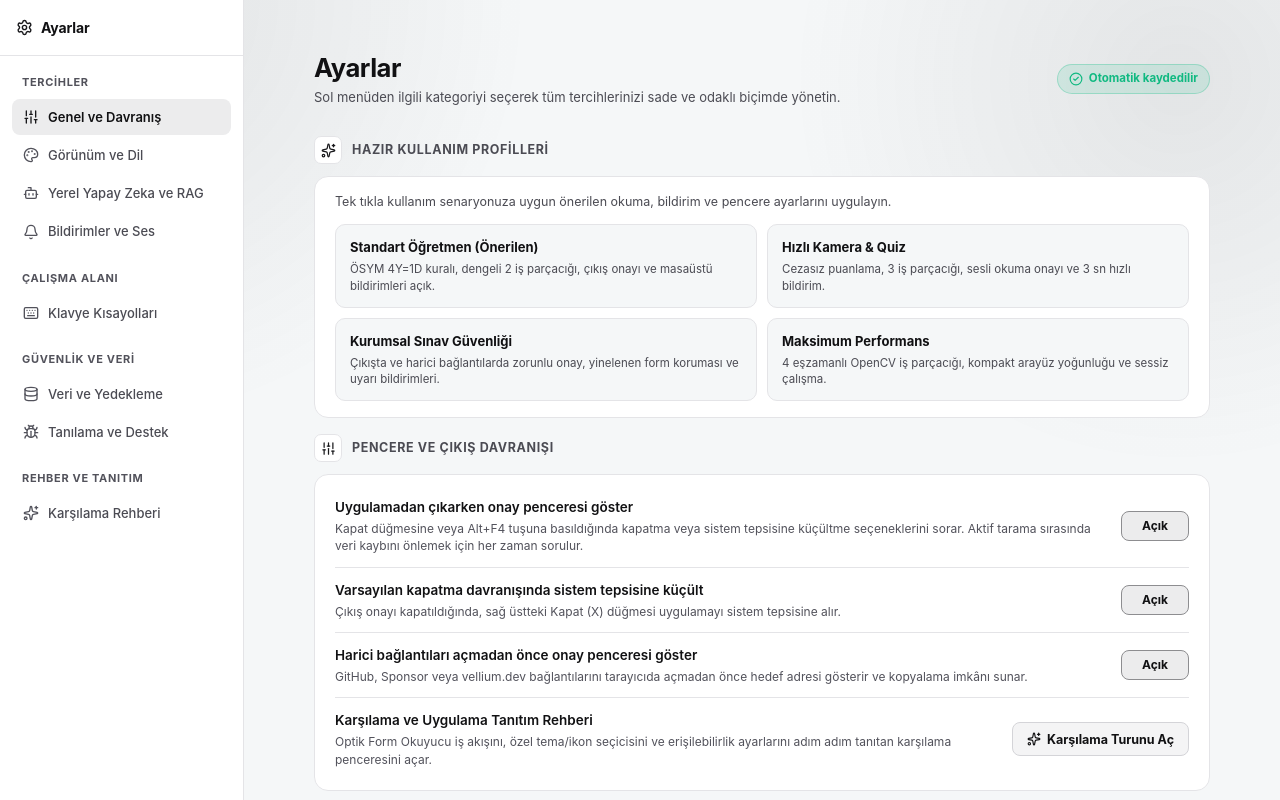
it: DesktopShell, 2nd-Sidebar SettingsPage, AboutPage, GuidePage & Exit Confirmation › renders SettingsPage with 2nd sidebar split-layout and switches sub-pages, themes, icons, languages, and notifications
The image size is (1280, 800).
Later steps or results of the test are not shown.
Check: the heading "Hazır Kullanım Profilleri" is shown, box [352,143,549,157]
Click the button "Görünüm ve Dil" at (122, 155), box [12,137,231,173]
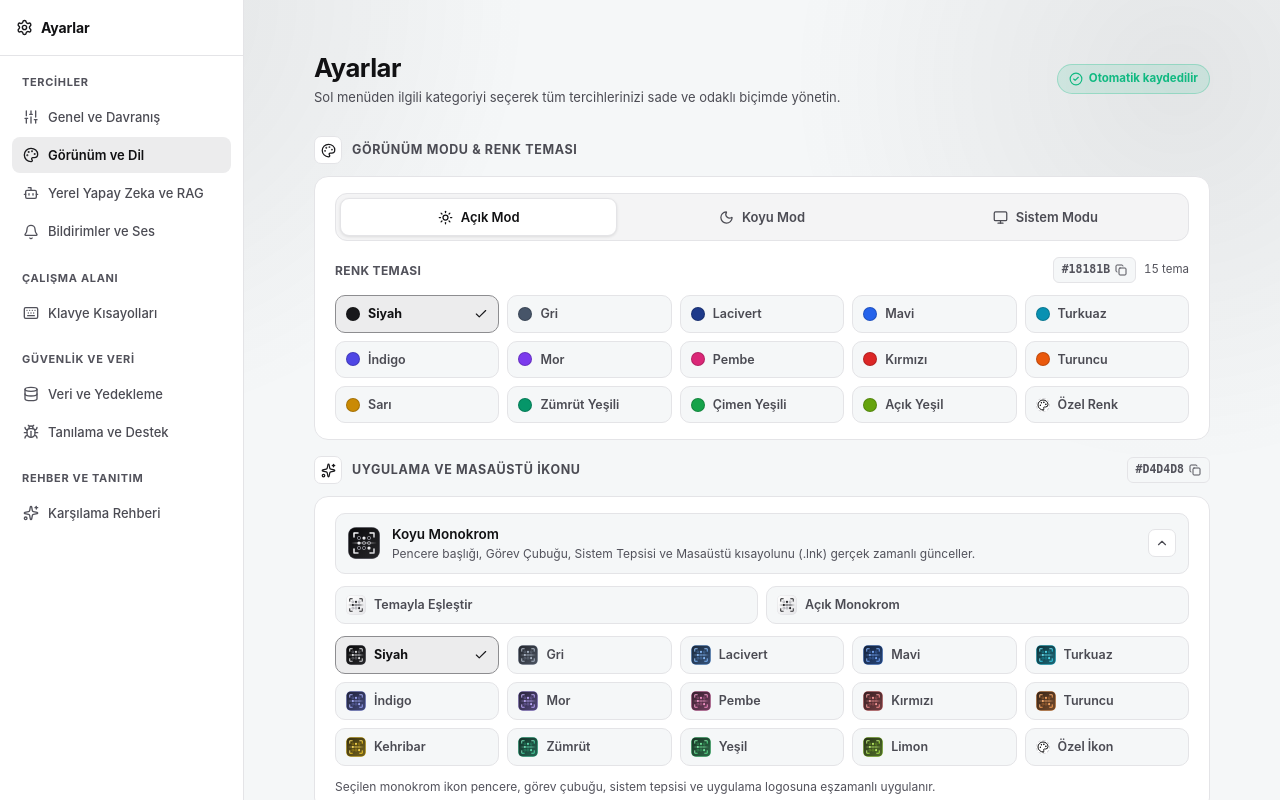
Check: the text "15 tema" is shown, box [1144,261,1189,279]
